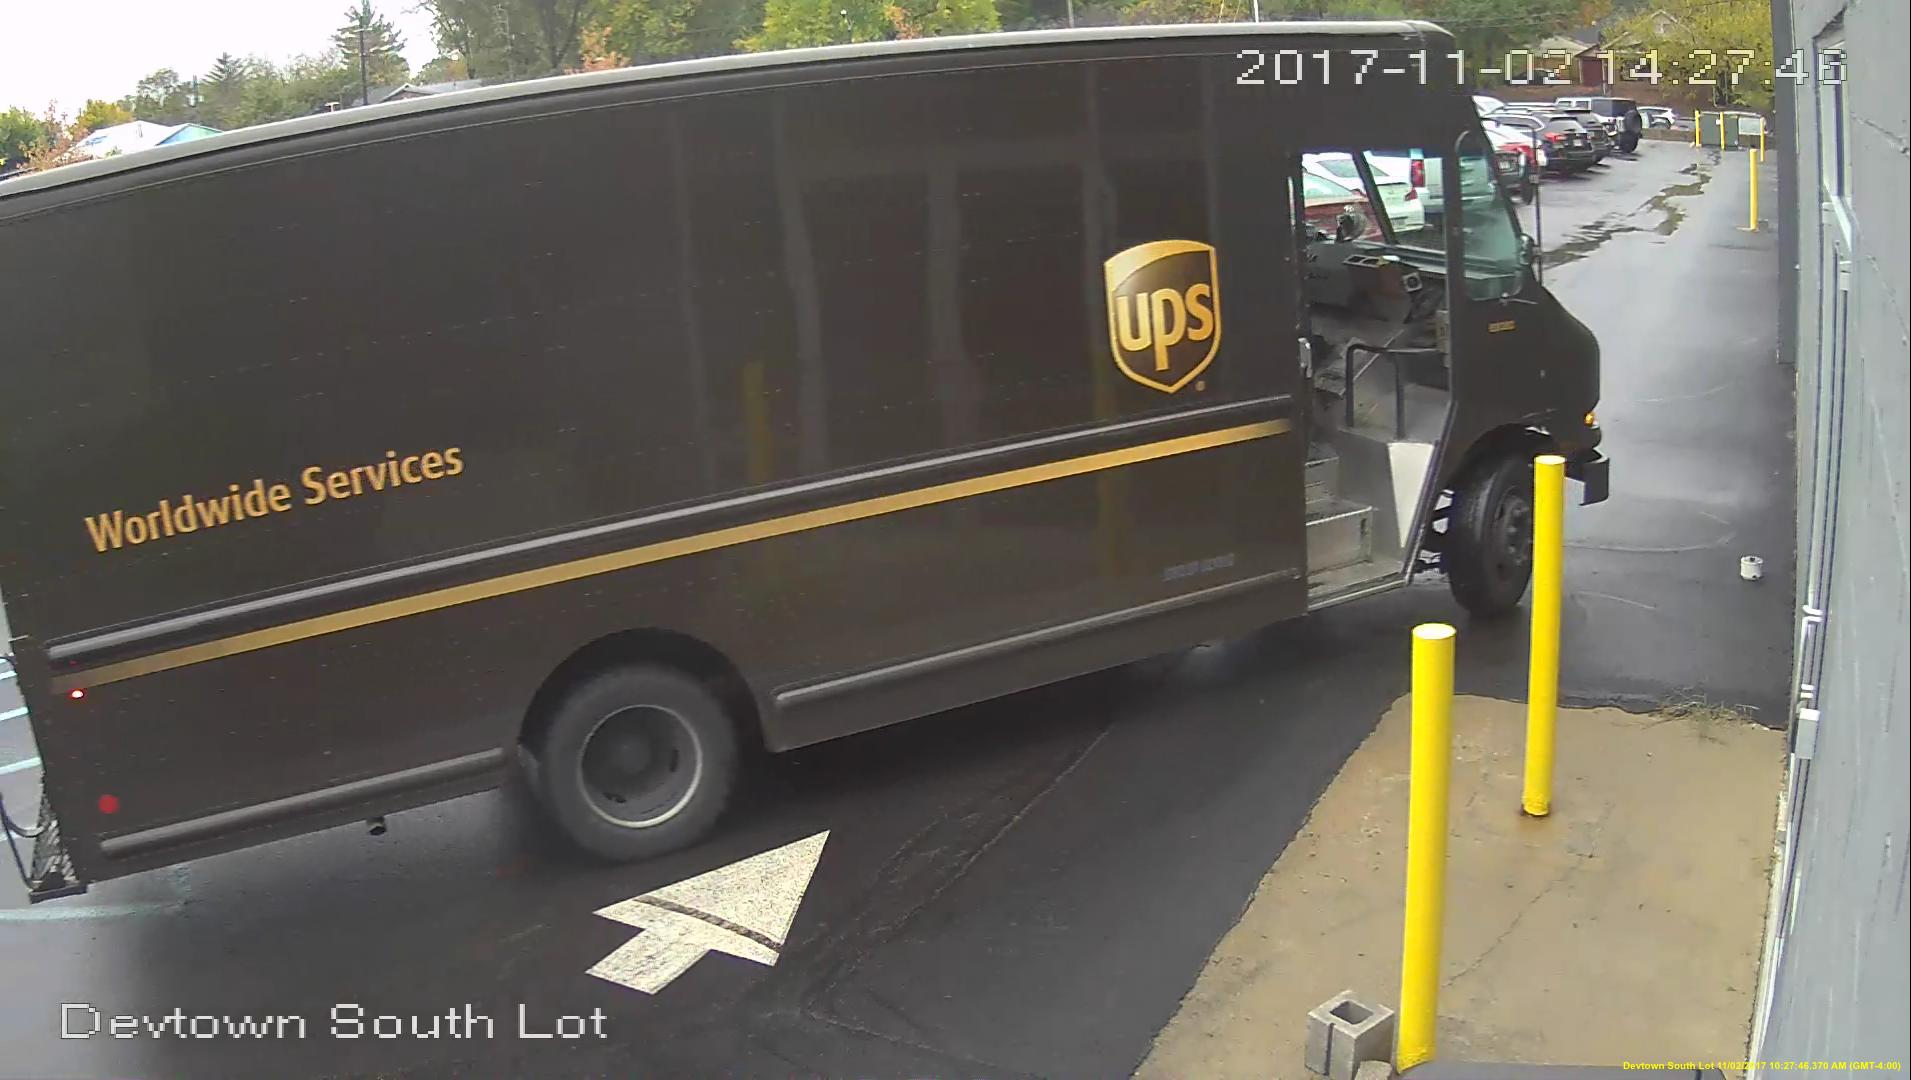ups_truck: (4, 18, 1604, 904)
